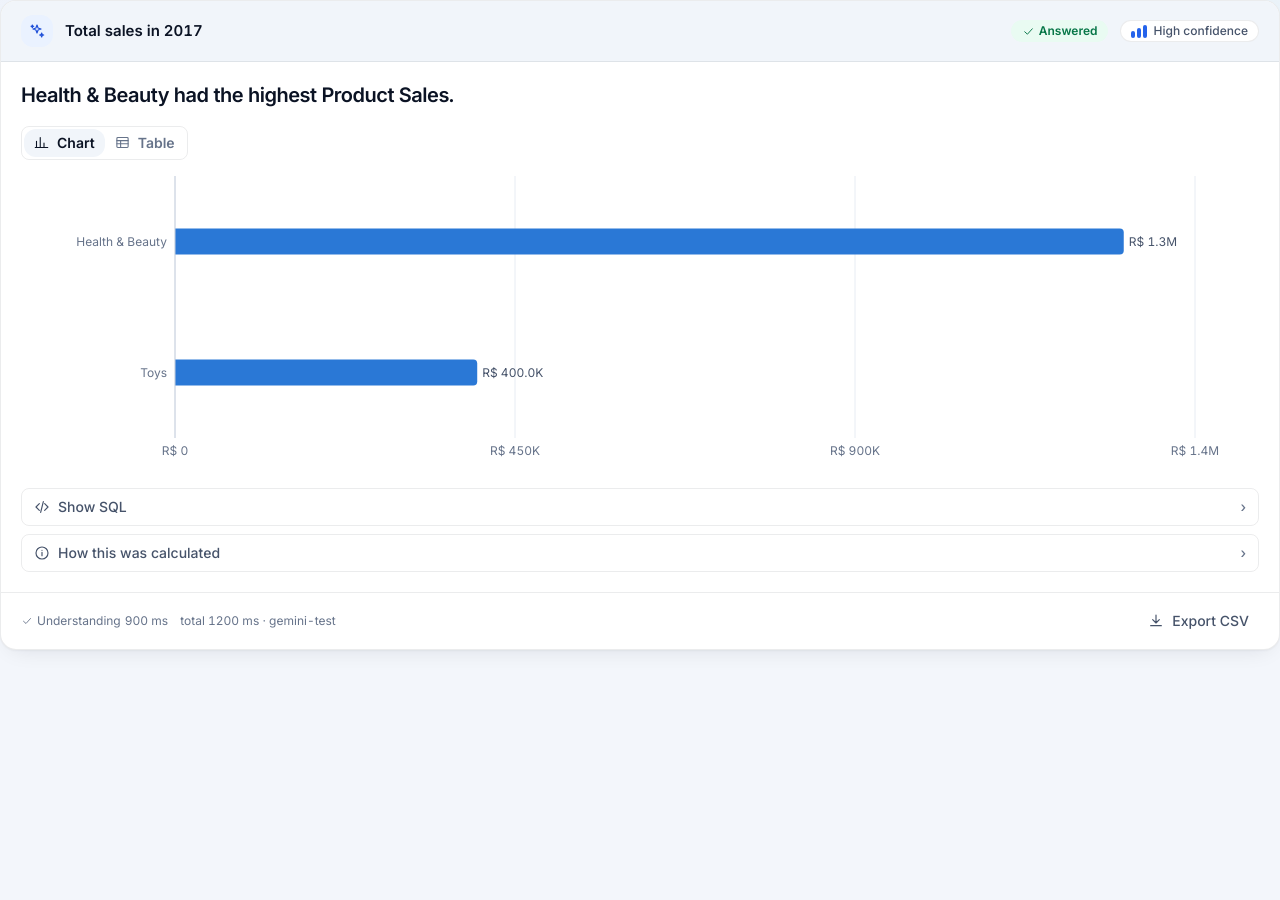
Scenario: ResultCard › toggles between chart and table
Click the button "Table": (145, 142) [105,128,185,156]
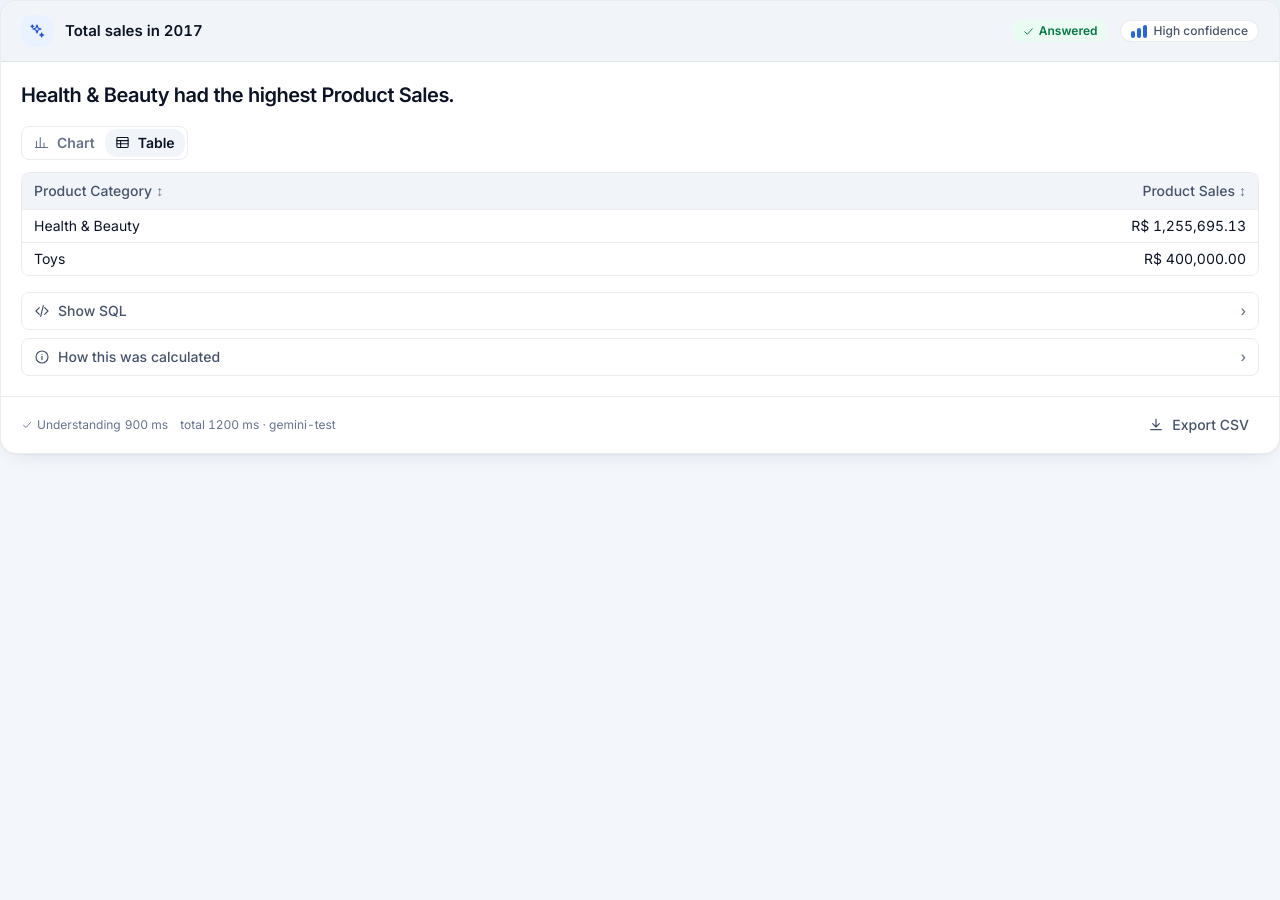
Result: the table shows "R$ 1,255,695.13" at [1131,216,1246,234]
